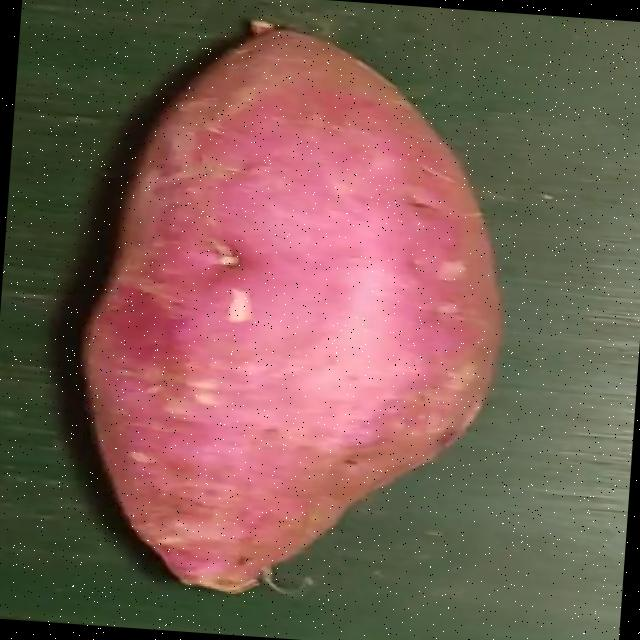Sweet Potato: (80, 22, 499, 596)
